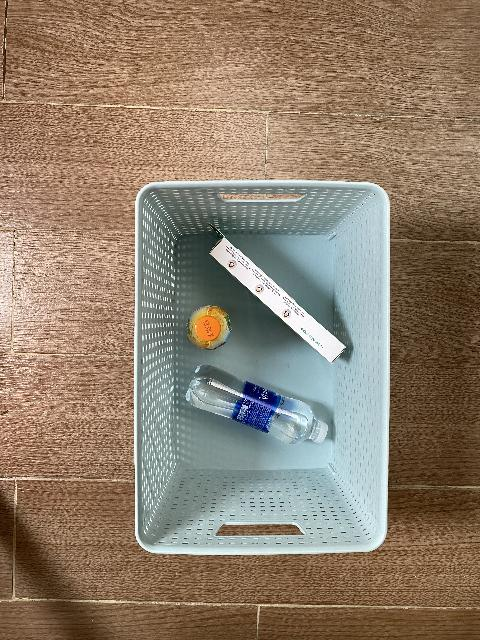4D_medical_face-mask: (208, 223, 346, 364)
aquafina: (185, 365, 329, 445)
cart: (134, 180, 391, 555)
teppy_orange_juice: (186, 305, 232, 350)
